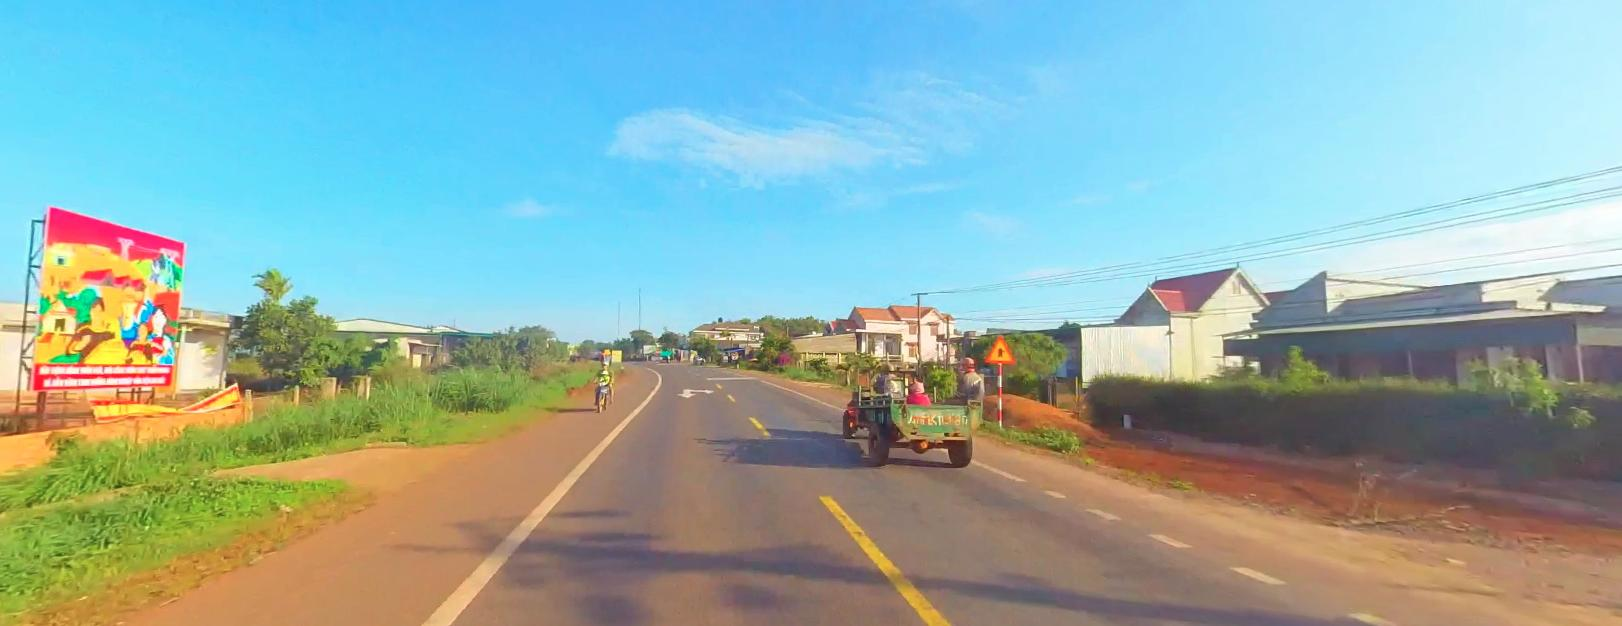Nguy hiem: (984, 332, 1017, 363)
